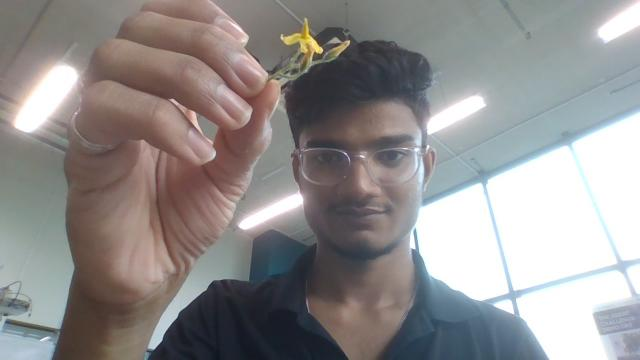Anthesis: (280, 17, 323, 57), (323, 39, 351, 60)
